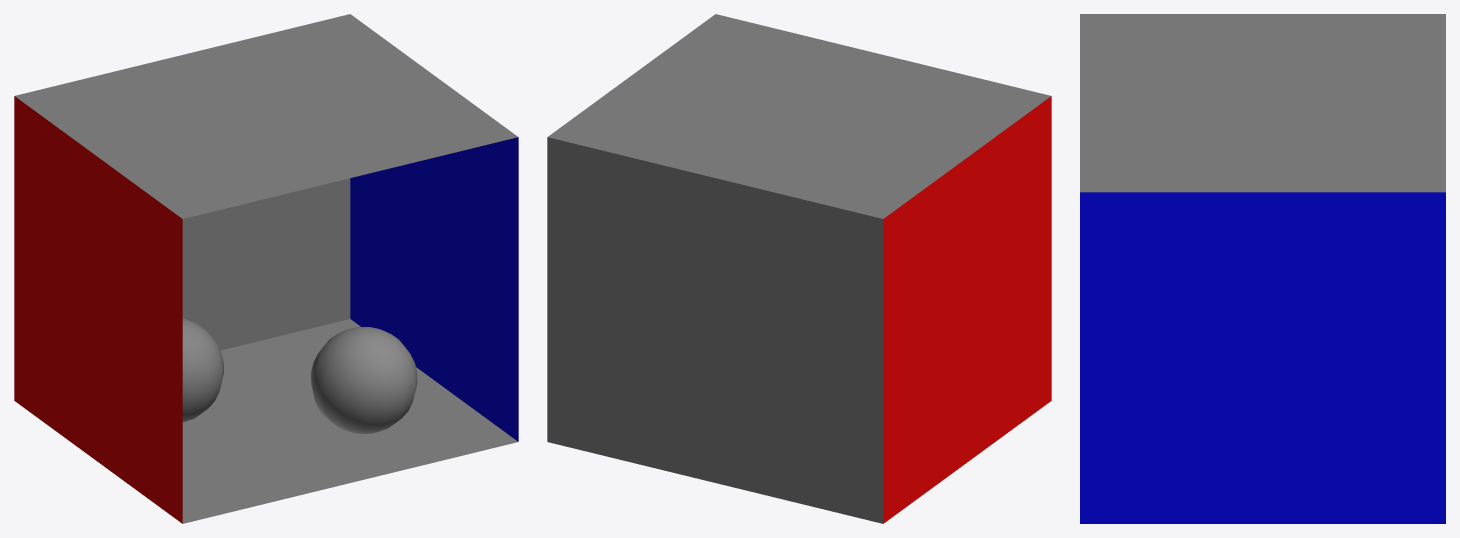
The picture shows the model from 3 angles, left to right: view 1: azimuth 30°, elevation 25°; view 2: azimuth 150°, elevation 25°; view 3: azimuth 270°, elevation 25°; orthographic projection. The views are drawn at different scales.
Visible parts, largest first — view 1: pCube1, pSphere2, pSphere1; view 2: pCube1; view 3: pCube1.
Part boxes in pixels (x1,y1,x2,y2): pCube1: [14, 14, 518, 523]; pSphere2: [311, 327, 417, 434]; pSphere1: [182, 318, 223, 422]; pCube1: [547, 14, 1051, 523]; pCube1: [1080, 14, 1445, 523].
Size of the model in its own units: 11.53 by 10 by 10.
